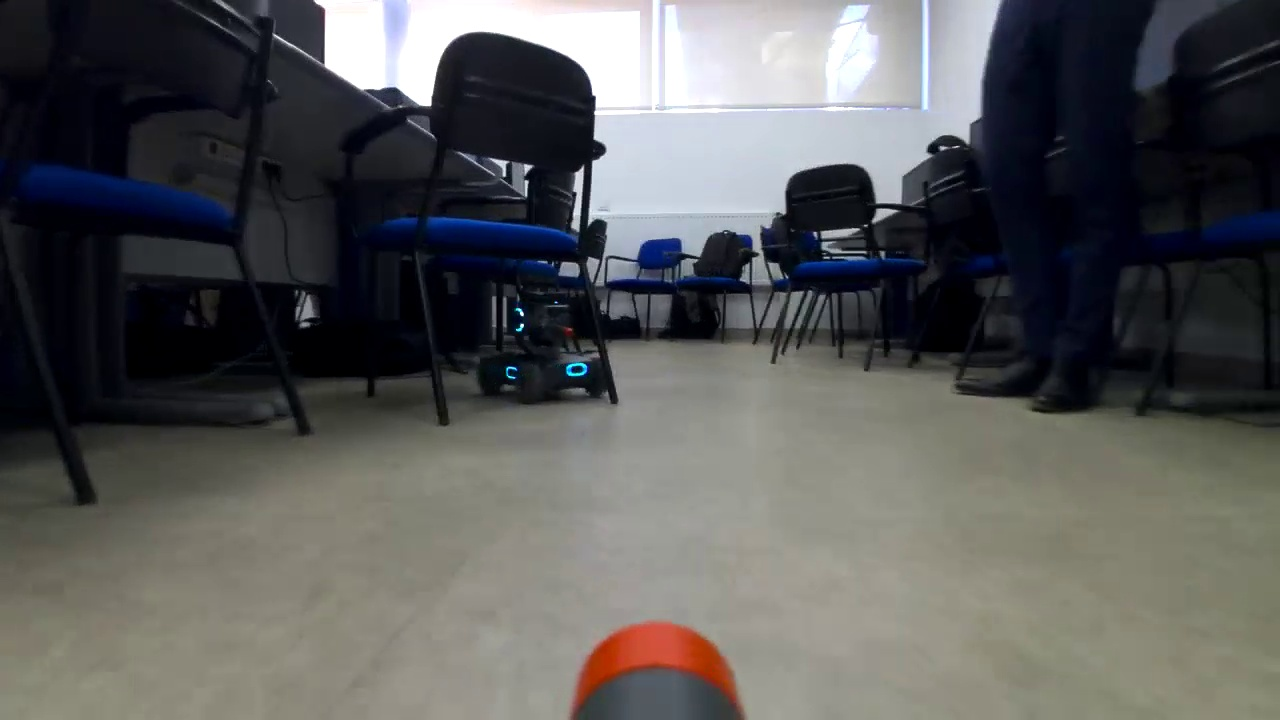robot: (472, 292, 620, 412)
